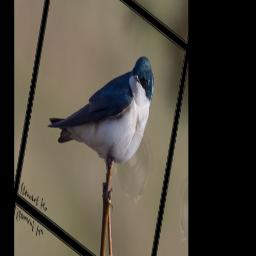Swallow: (46, 0, 158, 204)
